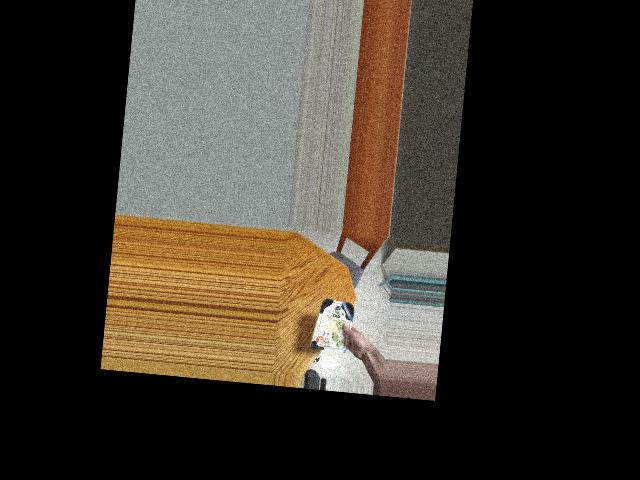cheese: (314, 300, 354, 349)
